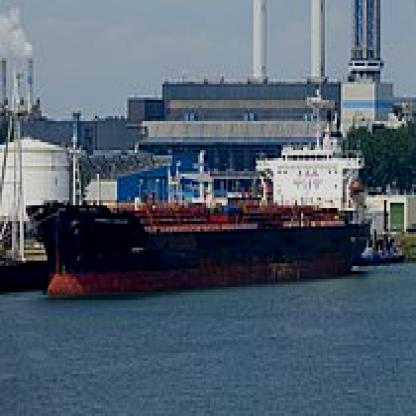Tanker: (22, 89, 382, 303)
